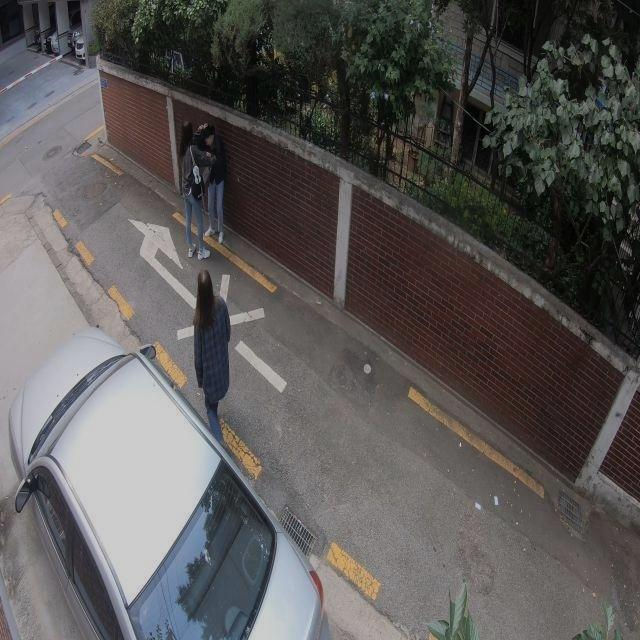fight: (177, 118, 229, 259)
